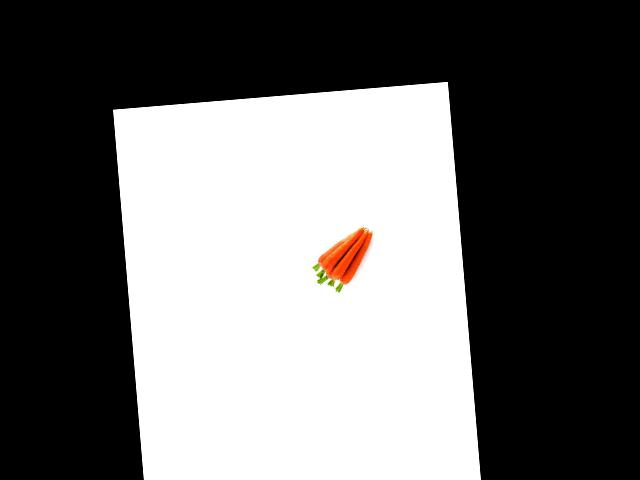carrot: (337, 232, 381, 288)
